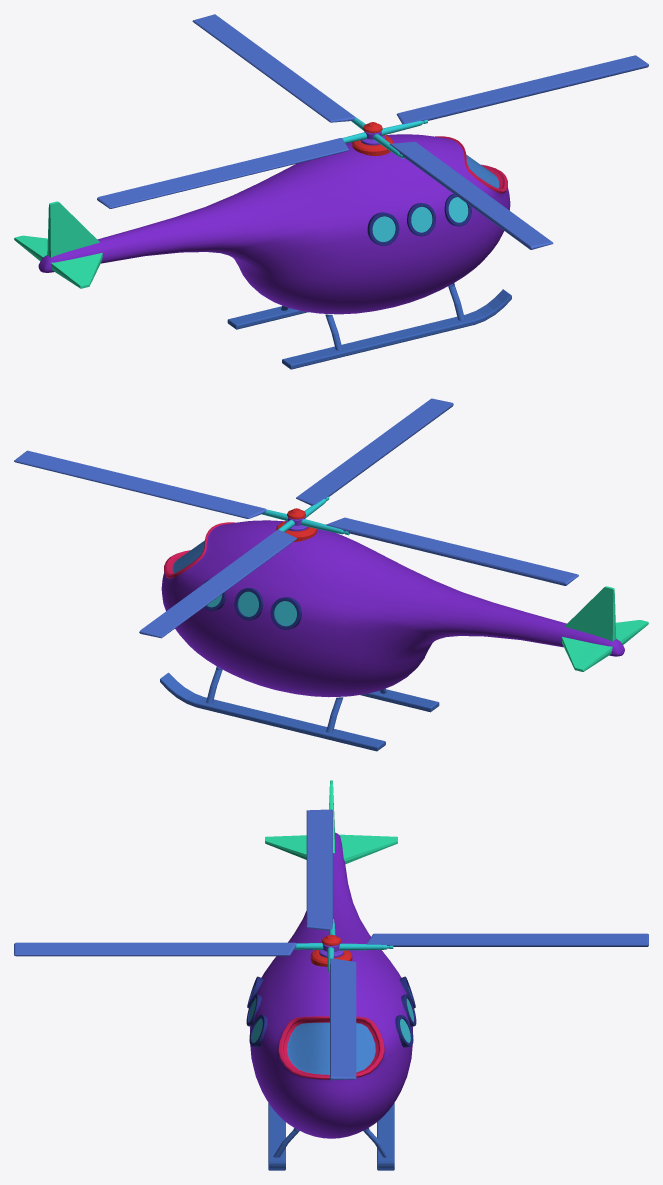
File: вертолет.fbx
3 views of the same model, one above another, from view 1: azimuth 30°, elevation 25°; view 2: azimuth 150°, elevation 25°; view 3: azimuth 270°, elevation 25° (orthographic).
Parts seen in each view (by area): view 1: Cube.002, Cylinder.008, Cube.005, Circle.002, Cube.003, Cube.004, Cylinder.003; view 2: Cube.002, Cylinder.008, Cube.005, Circle.002, Cube.003, Cube.004, Cylinder.003; view 3: Cube.002, Cylinder.008, Cube.005, Circle.002, Cube.004, Cylinder.003.
Part boxes in pixels (x1=…): Cube.002: x1=38, y1=134, x2=510, y2=314; Cylinder.008: x1=97, y1=14, x2=648, y2=249; Cube.005: x1=227, y1=283, x2=511, y2=369; Circle.002: x1=367, y1=194, x2=471, y2=245; Cube.003: x1=47, y1=201, x2=99, y2=257; Cube.004: x1=14, y1=235, x2=102, y2=288; Cylinder.003: x1=352, y1=122, x2=393, y2=156; Cube.002: x1=161, y1=520, x2=624, y2=697; Cylinder.008: x1=14, y1=398, x2=578, y2=638; Cube.005: x1=160, y1=666, x2=439, y2=751; Circle.002: x1=203, y1=579, x2=301, y2=629; Cube.003: x1=564, y1=586, x2=616, y2=641; Cube.004: x1=561, y1=620, x2=648, y2=671; Cylinder.003: x1=276, y1=508, x2=316, y2=541; Cube.002: x1=249, y1=832, x2=413, y2=1138; Cylinder.008: x1=14, y1=809, x2=648, y2=1080; Cube.005: x1=268, y1=1103, x2=394, y2=1170; Circle.002: x1=246, y1=976, x2=416, y2=1047; Cube.004: x1=265, y1=834, x2=397, y2=864; Cylinder.003: x1=310, y1=934, x2=352, y2=966.
Bounding box in the file's own units: 1586 × 488 × 1438.
Materials: 6 (5 with a texture image).
